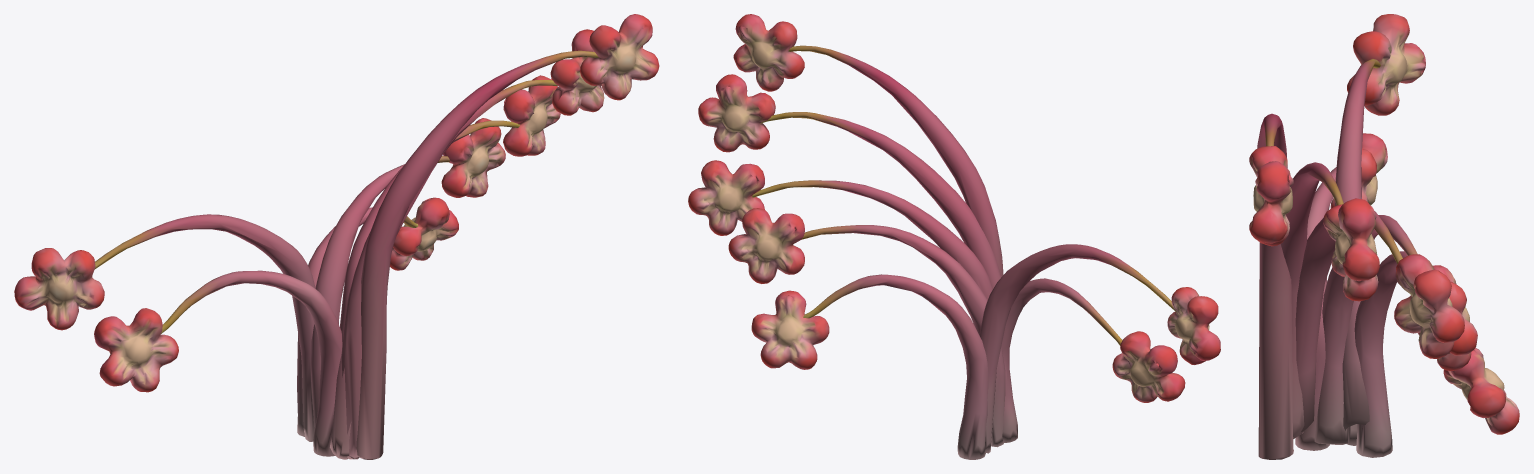
3 views of the same model, side by side, from view 1: azimuth 30°, elevation 25°; view 2: azimuth 150°, elevation 25°; view 3: azimuth 270°, elevation 25° (orthographic). The views are drawn at different scales.
Visible parts, largest first — view 1: LOD 4_6720493226539483728_d61aa4d54b65f9a4b9f71cf390cbd75f; view 2: LOD 4_6720493226539483728_d61aa4d54b65f9a4b9f71cf390cbd75f; view 3: LOD 4_6720493226539483728_d61aa4d54b65f9a4b9f71cf390cbd75f.
Boxes of the visible parts, left/top/right/bottom form: LOD 4_6720493226539483728_d61aa4d54b65f9a4b9f71cf390cbd75f: left=14, top=14, right=659, bottom=459; LOD 4_6720493226539483728_d61aa4d54b65f9a4b9f71cf390cbd75f: left=688, top=14, right=1220, bottom=459; LOD 4_6720493226539483728_d61aa4d54b65f9a4b9f71cf390cbd75f: left=1249, top=14, right=1519, bottom=459.
Bounding box in the file's own units: 13.85 × 8.59 × 4.65.
